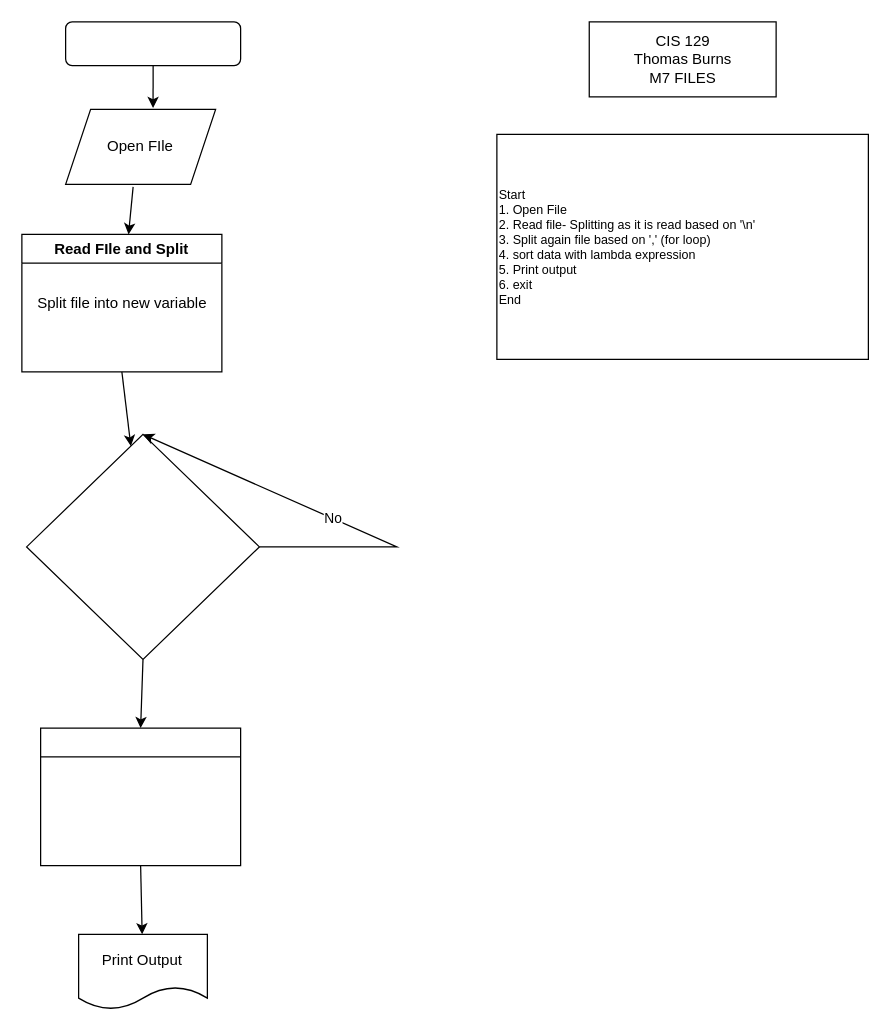
Some shapes in this 891 by 1031 pixel diagram are drawn without their labels. Each missing label, with the centre of its shape:
"Labmda sort on YEAR" belongs at (140,796).
"Loop through all lines in file splitting on ',' Is entire file split?" belongs at (142,546).
"Start" belongs at (152,43).
